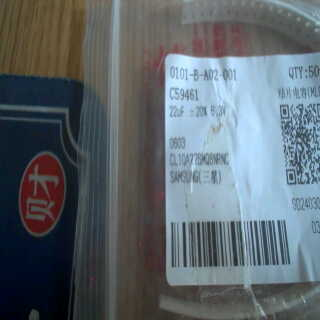22uF: (168, 103, 188, 123)
